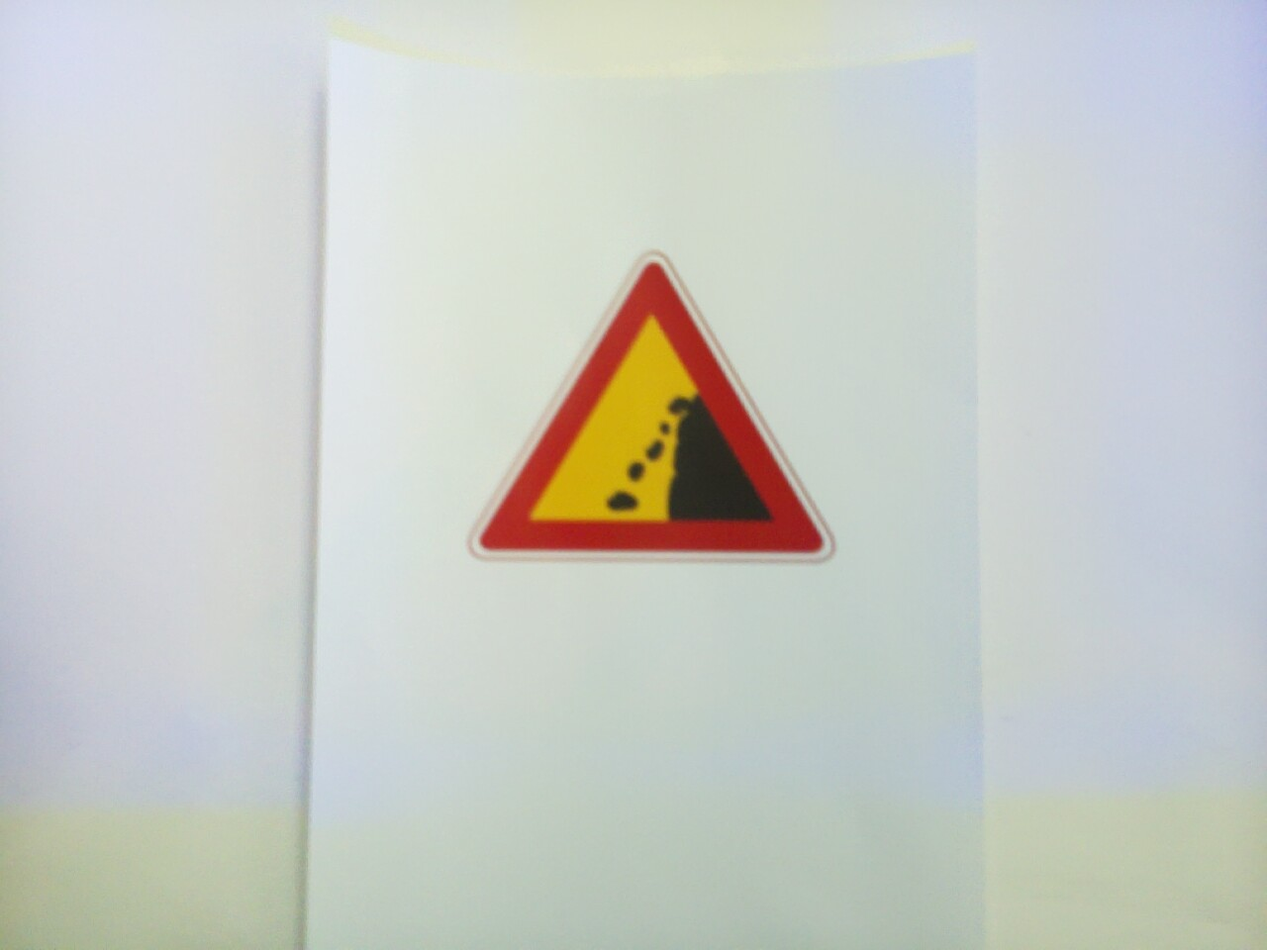falling_rocks: (469, 252, 834, 563)
